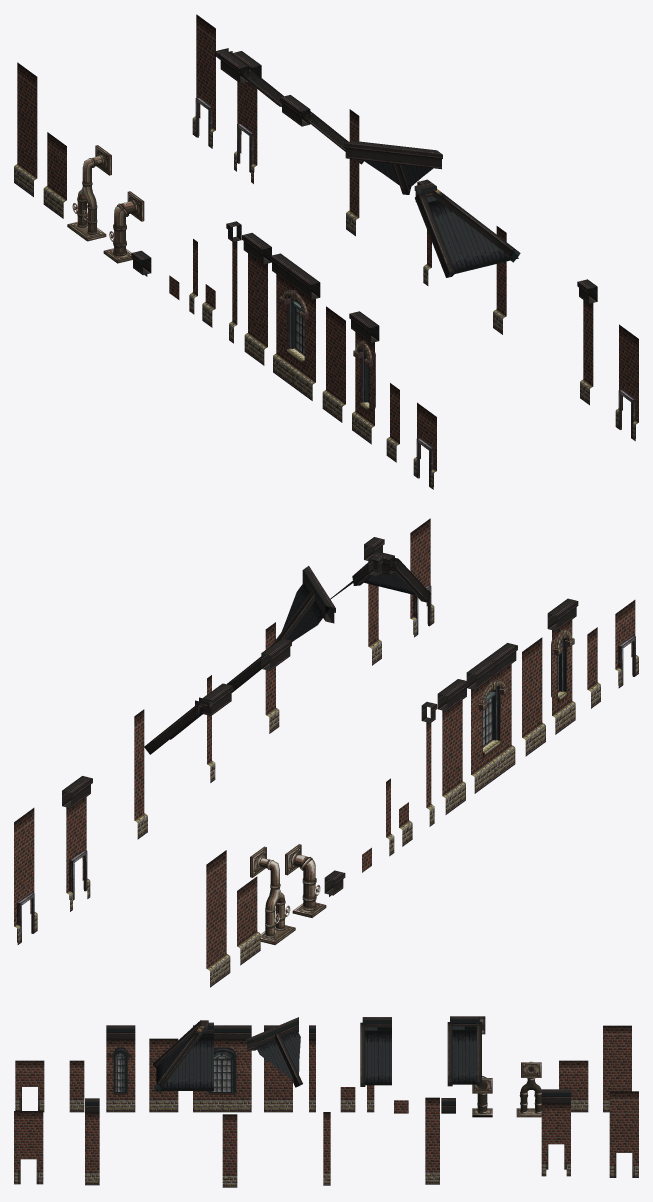
Rendered from EnvMdrMD_Factory_A_Wall_A_End.FBX.
3 views of the same model, one above another, from view 1: azimuth 30°, elevation 25°; view 2: azimuth 150°, elevation 25°; view 3: azimuth 270°, elevation 25° (orthographic). The views are drawn at different scales.
Visible parts, largest first — view 1: EnvMdrMD_Factory_A_Wall_Window_B, EnvMdrMD_Factory_A_Wall_CoIn, EnvMdrMD_Factory_A_Wall_Top_A_CoOut, EnvMdrMD_Factory_A_Wall_Window_A, EnvMdrMD_Factory_A_Wall_Loop_200_A, EnvMdrMD_Factory_A_Wall_Loop_200_D, EnvMdrMD_Factory_A_Wall_Door_D, EnvMdrMD_Factory_A_Wall_Loop_200_B, EnvMdrMD_Factory_A_Wall_Door_A_Unique_A, EnvMdrMD_Factory_A_Wall_Duct_B, EnvMdrMD_Factory_A_Wall_Door_B, EnvMdrMD_Factory_A_Wall_Loop_200_C (+9 smaller); view 2: EnvMdrMD_Factory_A_Wall_Window_B, EnvMdrMD_Factory_A_Wall_Window_A, EnvMdrMD_Factory_A_Wall_Loop_200_A, EnvMdrMD_Factory_A_Wall_Loop_200_D, EnvMdrMD_Factory_A_Wall_Door_A_Unique_A, EnvMdrMD_Factory_A_Wall_Door_D, EnvMdrMD_Factory_A_Wall_Loop_200_B, EnvMdrMD_Factory_A_Wall_Top_A_CoOut, EnvMdrMD_Factory_A_Wall_CoIn, EnvMdrMD_Factory_A_Wall_Duct_B, EnvMdrMD_Factory_A_Wall_Door_B, EnvMdrMD_Factory_A_Wall_Loop_200_C (+9 smaller); view 3: EnvMdrMD_Factory_A_Wall_Window_B, EnvMdrMD_Factory_A_Wall_CoIn, EnvMdrMD_Factory_A_Wall_Window_A, EnvMdrMD_Factory_A_Wall_Top_A_Unique_A, EnvMdrMD_Factory_A_Wall_Door_D, EnvMdrMD_Factory_A_Wall_Top_A, EnvMdrMD_Factory_A_Wall_Door_A_Unique_A, EnvMdrMD_Factory_A_Wall_Loop_200_D, EnvMdrMD_Factory_A_Wall_Top_A_CoOut, EnvMdrMD_Factory_A_Wall_Door_B, EnvMdrMD_Factory_A_Wall_Loop_200_A, EnvMdrMD_Factory_A_Wall_Loop_100_A (+11 smaller).
Boxes of the visible parts, x1,y1,x2,y2 form: EnvMdrMD_Factory_A_Wall_Window_B: (270, 253, 320, 400); EnvMdrMD_Factory_A_Wall_CoIn: (414, 179, 520, 277); EnvMdrMD_Factory_A_Wall_Top_A_CoOut: (344, 141, 442, 194); EnvMdrMD_Factory_A_Wall_Window_A: (349, 311, 379, 444); EnvMdrMD_Factory_A_Wall_Loop_200_A: (242, 233, 271, 365); EnvMdrMD_Factory_A_Wall_Loop_200_D: (14, 62, 37, 196); EnvMdrMD_Factory_A_Wall_Door_D: (192, 14, 215, 148); EnvMdrMD_Factory_A_Wall_Loop_200_B: (322, 306, 345, 422); EnvMdrMD_Factory_A_Wall_Door_A_Unique_A: (232, 51, 261, 183); EnvMdrMD_Factory_A_Wall_Duct_B: (67, 145, 111, 241); EnvMdrMD_Factory_A_Wall_Door_B: (615, 324, 638, 441); EnvMdrMD_Factory_A_Wall_Loop_200_C: (43, 132, 66, 218); EnvMdrMD_Factory_A_Wall_Window_B: (466, 643, 517, 793); EnvMdrMD_Factory_A_Wall_Window_A: (547, 598, 578, 734); EnvMdrMD_Factory_A_Wall_Loop_200_A: (437, 679, 468, 814); EnvMdrMD_Factory_A_Wall_Loop_200_D: (206, 850, 230, 987); EnvMdrMD_Factory_A_Wall_Door_A_Unique_A: (62, 776, 92, 911); EnvMdrMD_Factory_A_Wall_Door_D: (14, 808, 37, 944); EnvMdrMD_Factory_A_Wall_Loop_200_B: (522, 637, 545, 756); EnvMdrMD_Factory_A_Wall_Top_A_CoOut: (272, 566, 335, 644); EnvMdrMD_Factory_A_Wall_CoIn: (330, 551, 430, 602); EnvMdrMD_Factory_A_Wall_Duct_B: (250, 846, 295, 944); EnvMdrMD_Factory_A_Wall_Door_B: (410, 518, 434, 637); EnvMdrMD_Factory_A_Wall_Loop_200_C: (237, 876, 260, 965); EnvMdrMD_Factory_A_Wall_Window_B: (193, 1025, 251, 1112); EnvMdrMD_Factory_A_Wall_CoIn: (153, 1020, 213, 1092); EnvMdrMD_Factory_A_Wall_Window_A: (106, 1025, 135, 1112); EnvMdrMD_Factory_A_Wall_Top_A_Unique_A: (447, 1016, 485, 1086); EnvMdrMD_Factory_A_Wall_Door_D: (609, 1091, 638, 1177); EnvMdrMD_Factory_A_Wall_Top_A: (360, 1017, 391, 1086); EnvMdrMD_Factory_A_Wall_Door_A_Unique_A: (541, 1089, 570, 1176); EnvMdrMD_Factory_A_Wall_Loop_200_D: (603, 1025, 631, 1112); EnvMdrMD_Factory_A_Wall_Top_A_CoOut: (245, 1017, 302, 1087); EnvMdrMD_Factory_A_Wall_Door_B: (14, 1111, 43, 1184); EnvMdrMD_Factory_A_Wall_Loop_200_A: (264, 1025, 292, 1112); EnvMdrMD_Factory_A_Wall_Loop_100_A: (85, 1098, 99, 1185).
Bounding box in the file's own units: 1274 × 1000 × 4281.
Materials: 1 (1 with a texture image).
